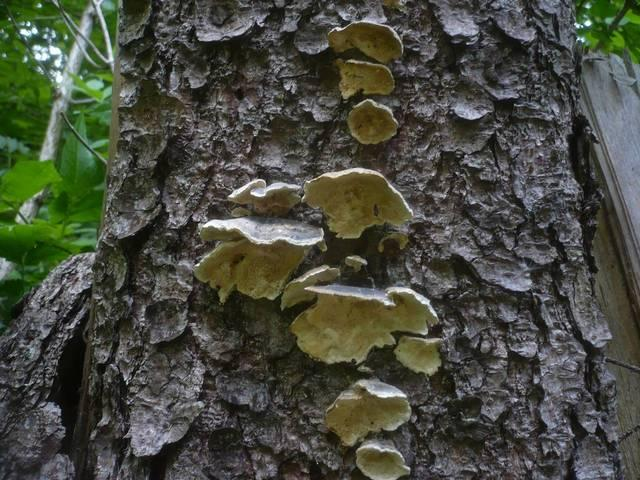poisonous_mushroom: (216, 165, 447, 380), (301, 166, 413, 240), (323, 377, 412, 446), (345, 98, 398, 145)
